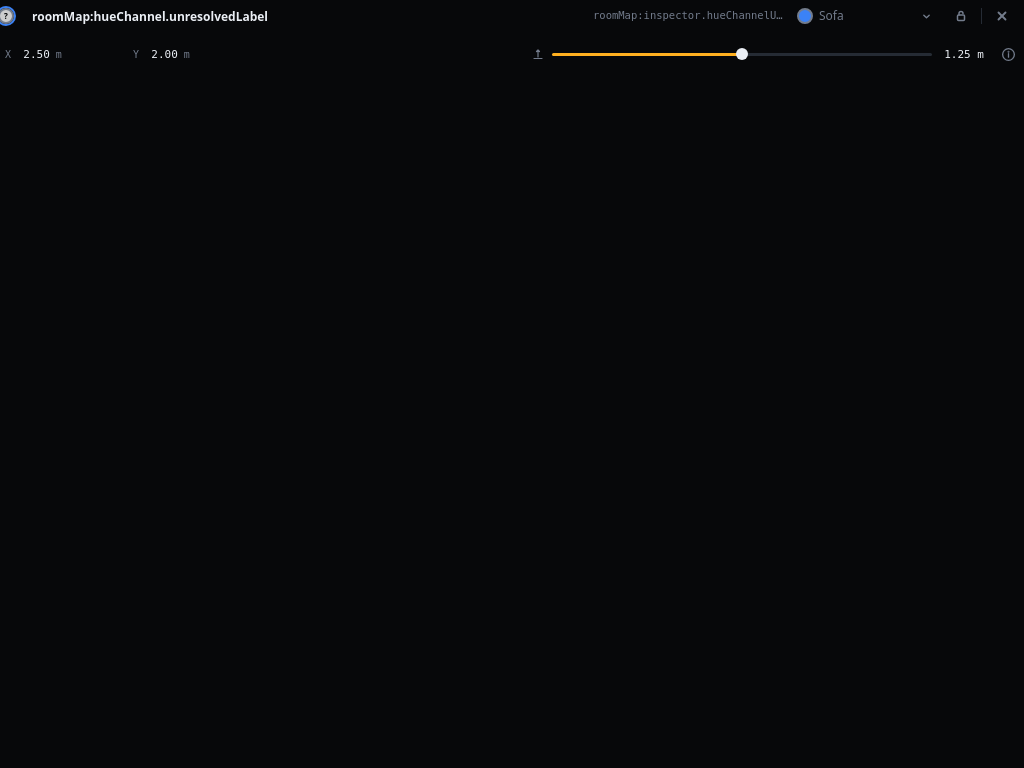
Test case: HueChannelInspector height inside a zone › limits the slider to the heights the zone lets the channel reach, and says why
The width and height of the screenshot is (1024, 768).
Click the button named "common:hintFor".
click(1008, 54)  # box [992,38,1023,70]
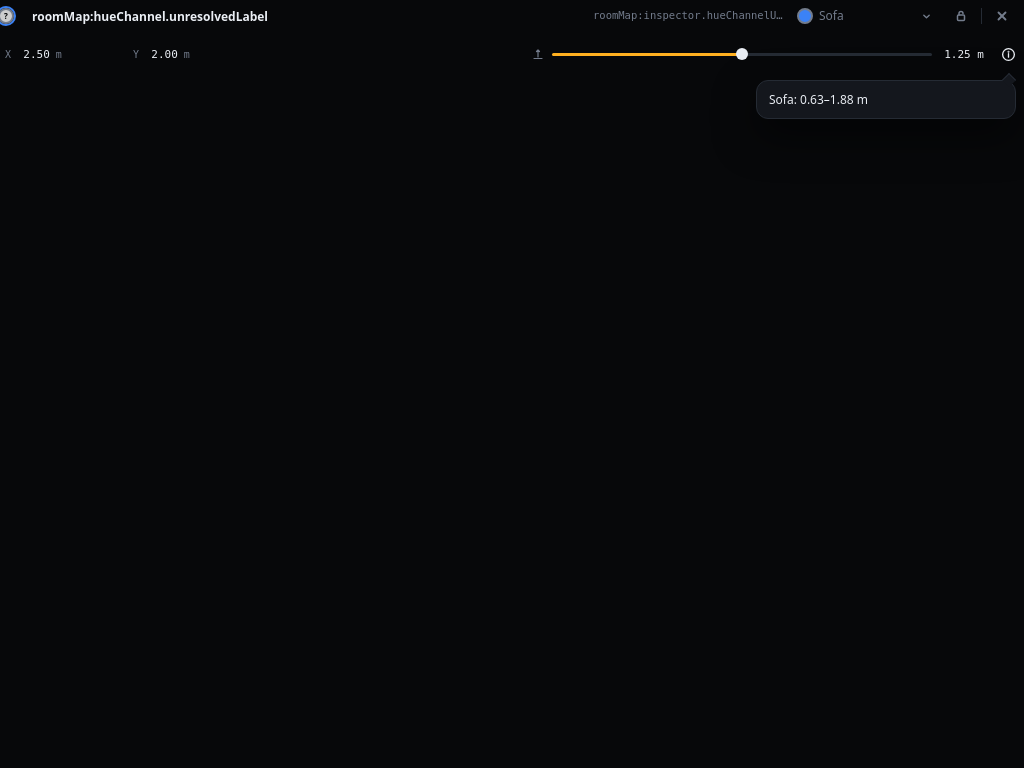
Now the text "Sofa: 0.63–1.88 m" is shown, box [769,91,868,108]
